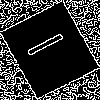I: (25, 25, 74, 59)
